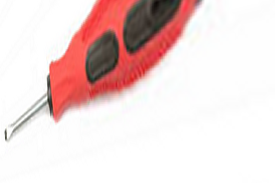screwdriver: (3, 3, 201, 147)
